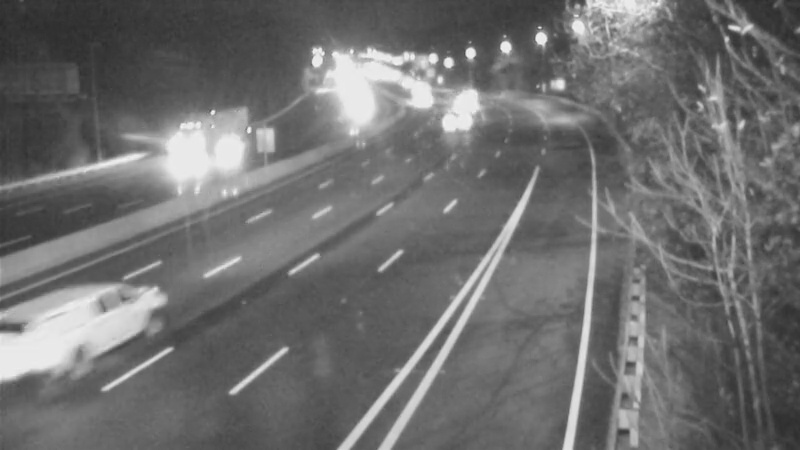vehicle: (1, 298, 94, 408), (149, 116, 229, 196), (395, 74, 445, 124), (436, 83, 486, 133), (435, 94, 485, 144)
